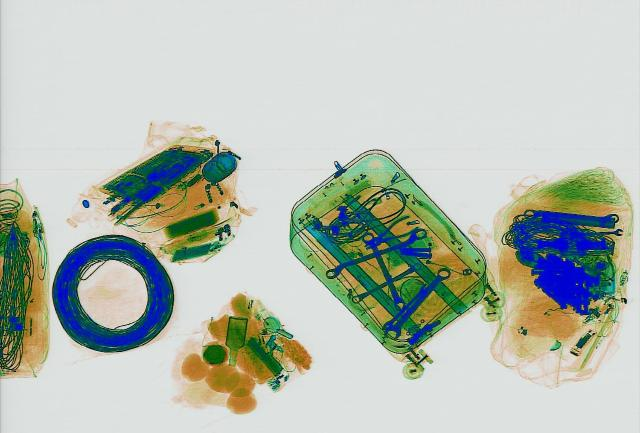Pliers: (356, 215, 422, 252)
Wrench: (319, 225, 431, 279), (378, 263, 457, 339), (356, 231, 410, 310), (346, 259, 426, 303), (564, 254, 608, 279), (524, 209, 618, 220), (588, 226, 622, 237)
